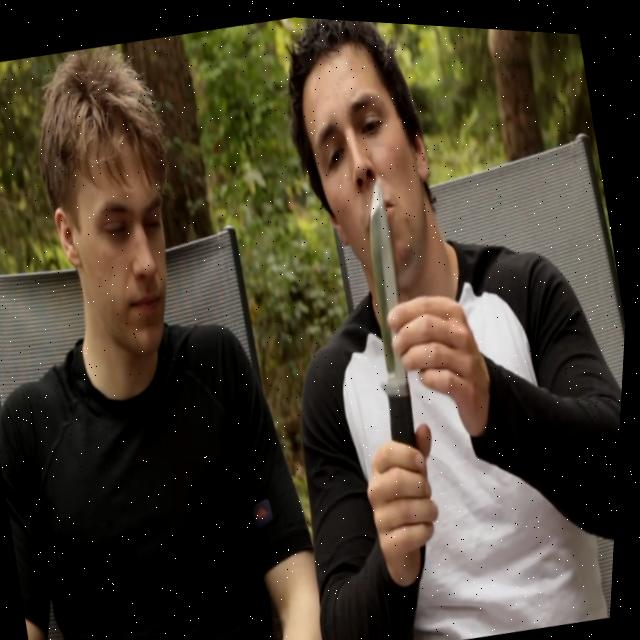knife: (338, 166, 448, 445)
